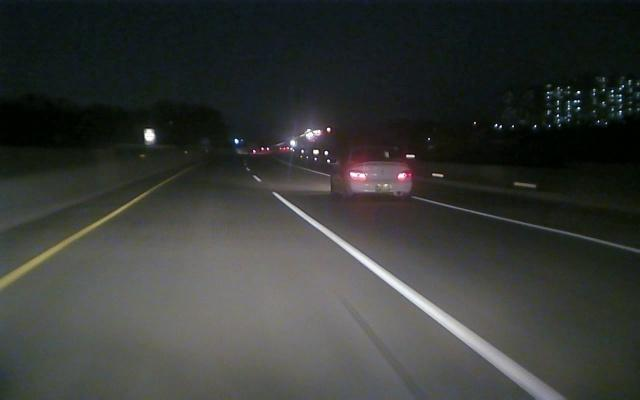lane: (252, 174, 567, 398), (2, 188, 155, 289), (417, 196, 640, 254)
